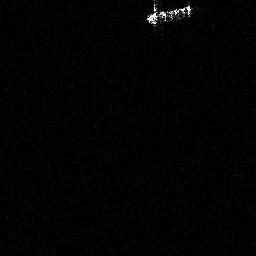ship: (142, 1, 193, 27)
